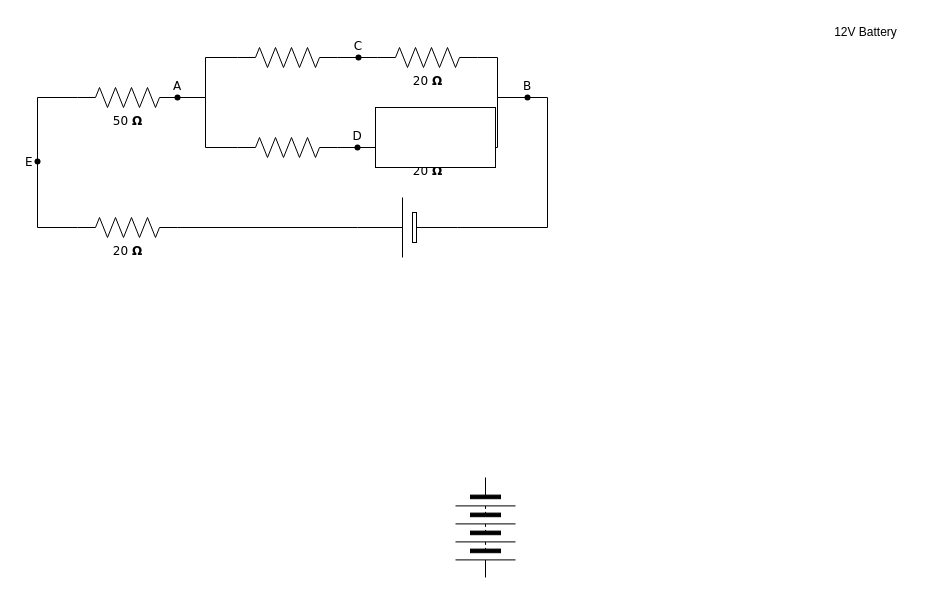
Some shapes in this 928 by 595 pixel diagram are drawn without their labels. Each missing label, with the centre of its shape:
220 V: [407,227]
40 Ω: [287,57]
70 Ω: [287,147]
